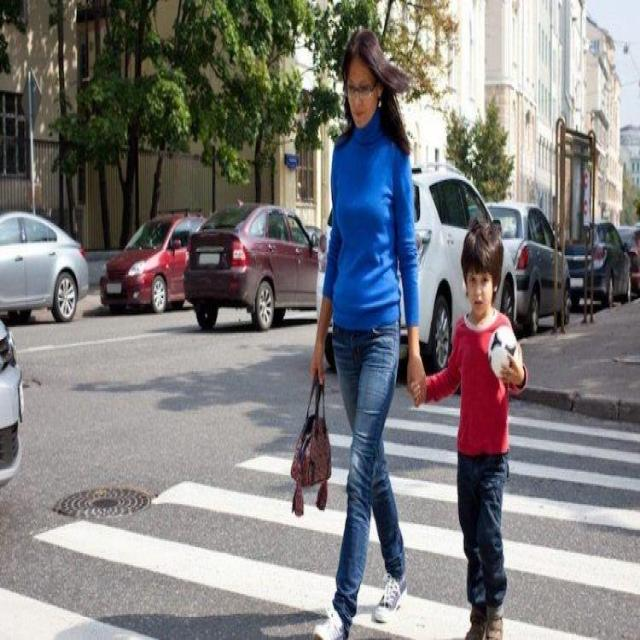person: (293, 26, 424, 640), (418, 220, 529, 640)
